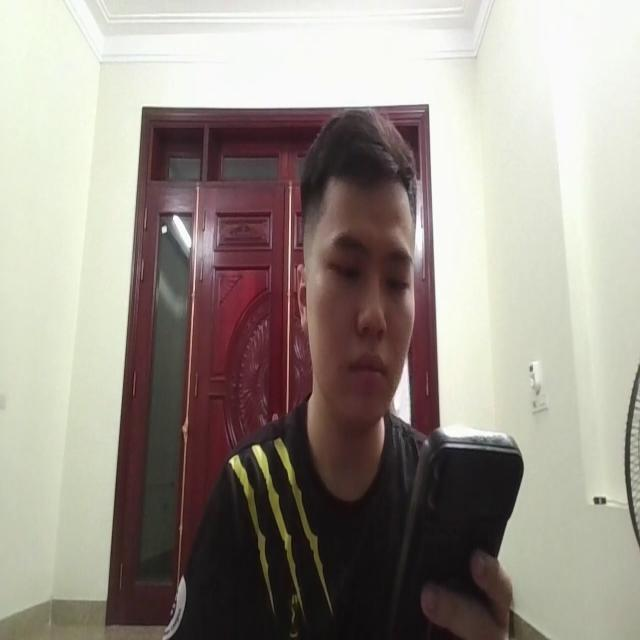phone: (401, 411, 518, 624)
student: (172, 99, 530, 640)
